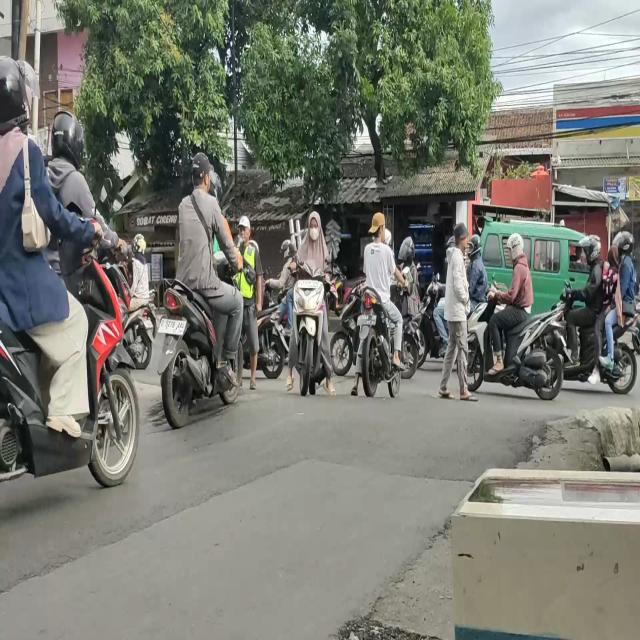helmet: (0, 56, 29, 124), (52, 112, 81, 160), (507, 230, 524, 262), (618, 227, 634, 254), (587, 234, 601, 264), (467, 234, 482, 258), (402, 234, 414, 260), (134, 232, 146, 256)
no-helmet: (190, 149, 212, 197), (371, 212, 387, 245), (307, 210, 323, 242)
